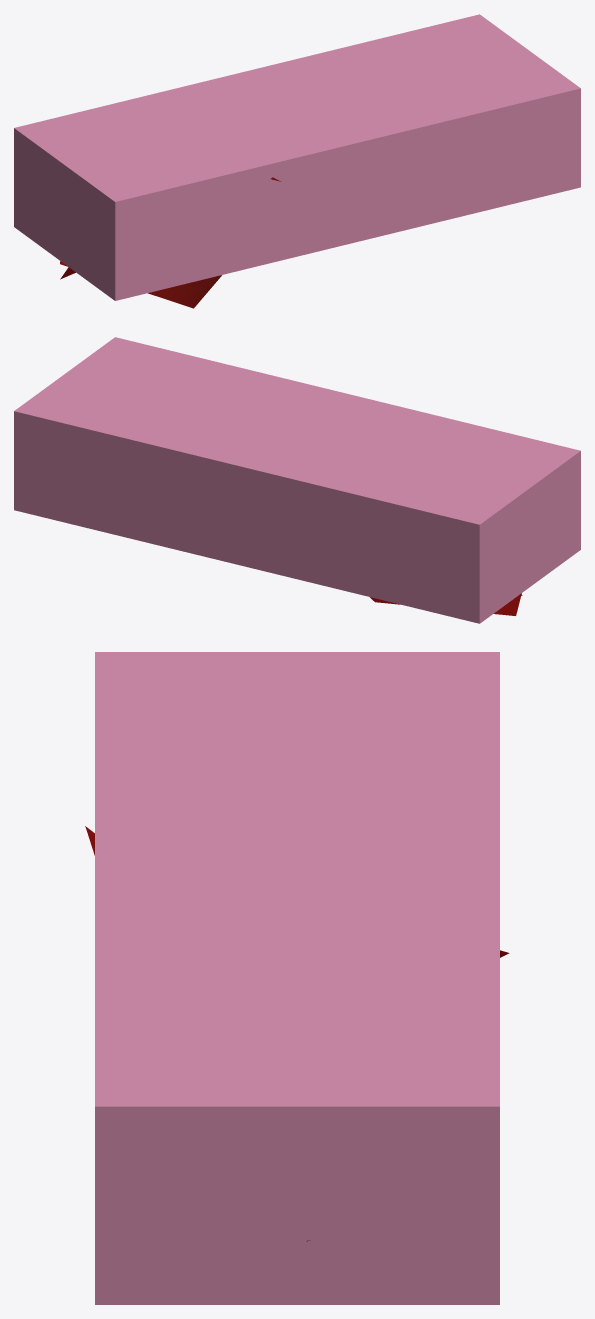
Rendered from tree_beech_dead_b.dae.
3 renders of one model, top to bottom at view 1: azimuth 30°, elevation 25°; view 2: azimuth 150°, elevation 25°; view 3: azimuth 270°, elevation 25°, orthographic. The views are drawn at different scales.
Parts seen in each view (by area): view 1: Untitled, tree_oak_large_c250; view 2: Untitled, tree_oak_large_c250; view 3: Untitled.
Boxes of the visible parts, bbox=[...] form: Untitled: bbox=[14, 14, 580, 300]; tree_oak_large_c250: bbox=[60, 261, 221, 308]; Untitled: bbox=[14, 337, 580, 623]; tree_oak_large_c250: bbox=[370, 593, 522, 615]; Untitled: bbox=[95, 652, 499, 1304].
Bounding box in the file's own units: 10.07 × 3.96 × 2.62.
